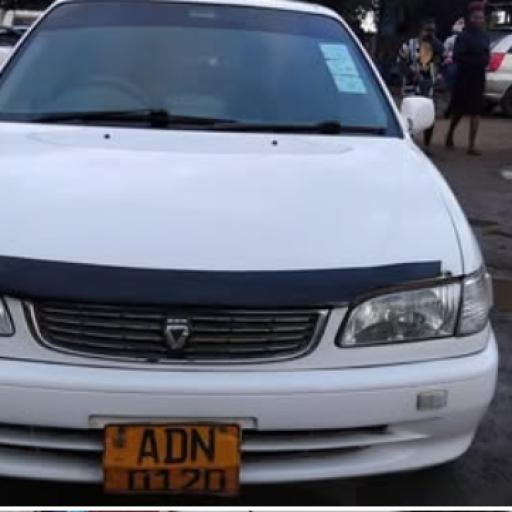number-plates: (105, 420, 238, 502)
